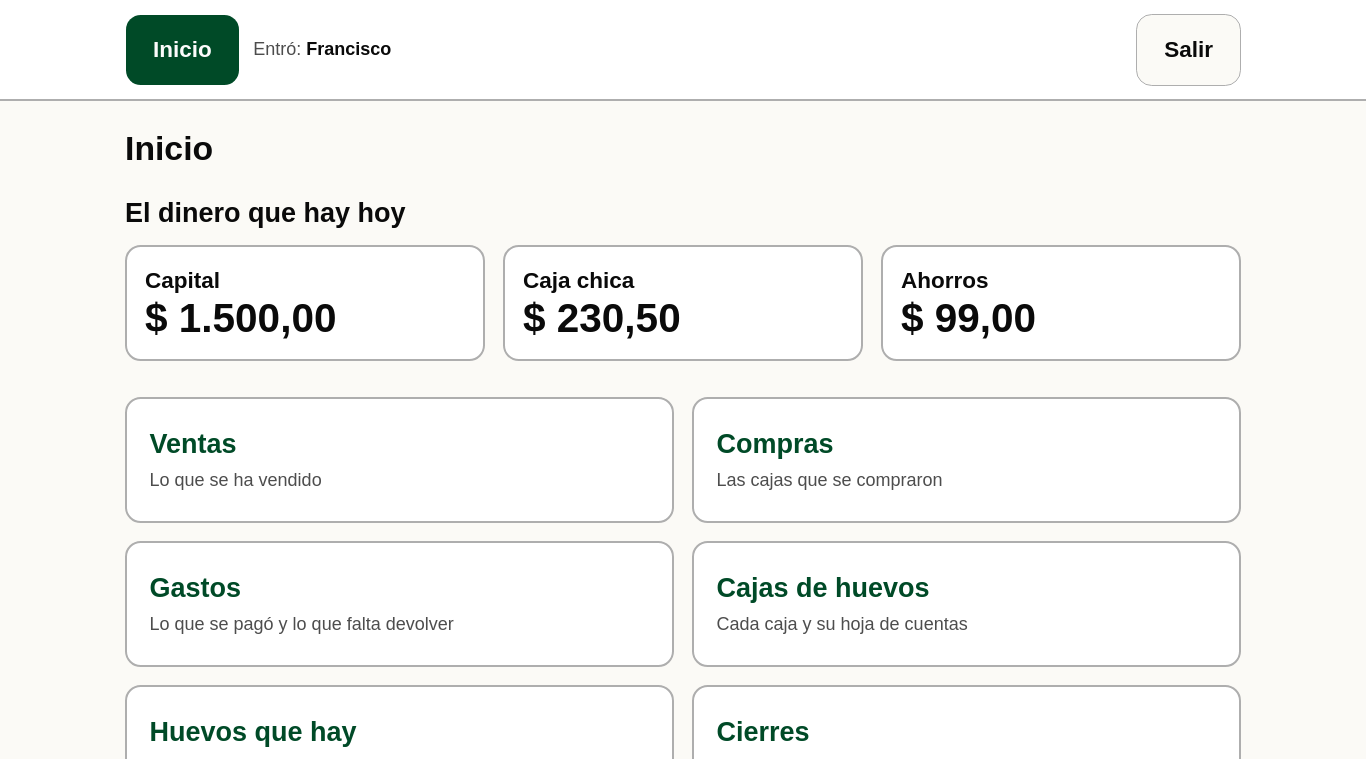
Scenario: logout › lands on the list of names, ready to log in again
This screenshot has width=1366, height=759.
Click the button "Salir". click: (1189, 50)
box: top-left (1136, 14), bottom-right (1241, 86)
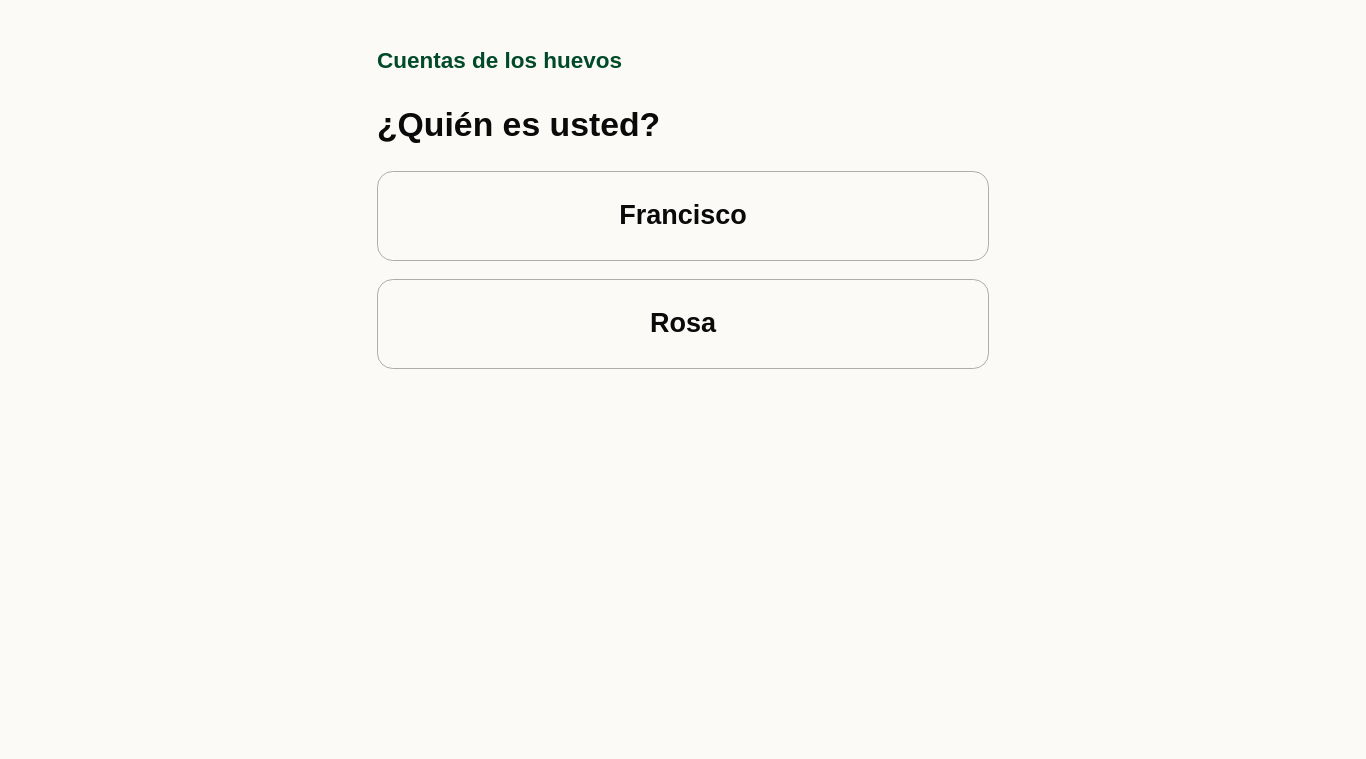
Check: the button "Rosa" is shown, box top-left (377, 279), bottom-right (989, 369)
